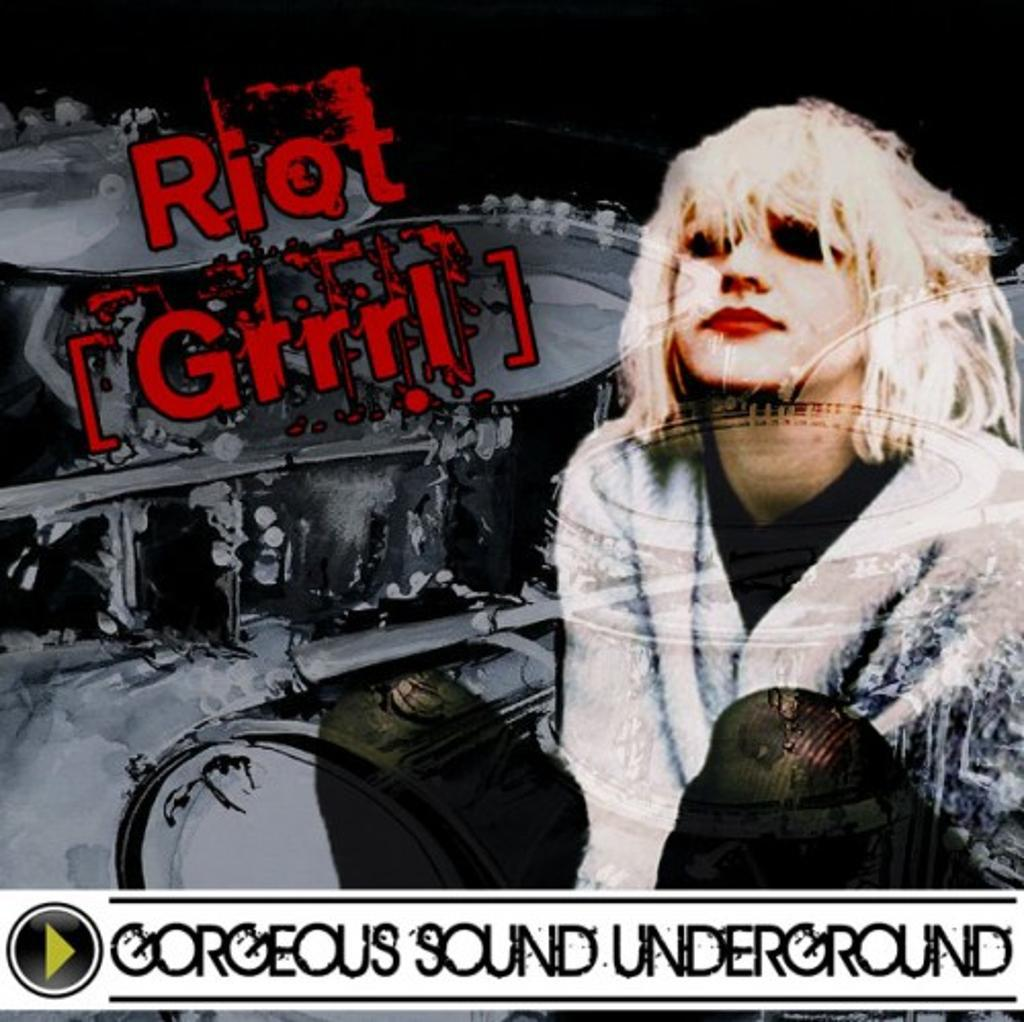face: (671, 177, 865, 389)
